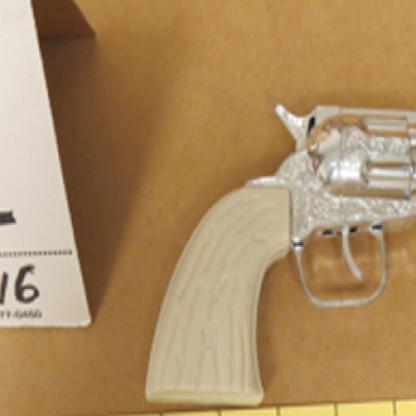gun: (127, 93, 415, 414)
